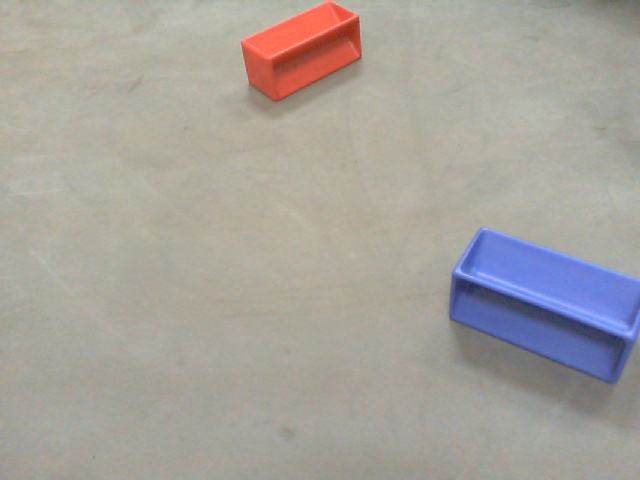BlueSample: (448, 224, 640, 391)
RedSample: (237, 1, 368, 107)
